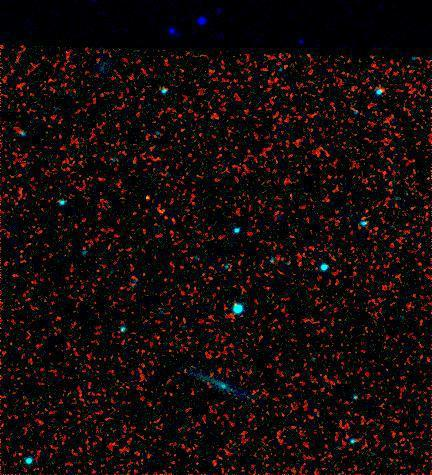star: (157, 381, 187, 411)
